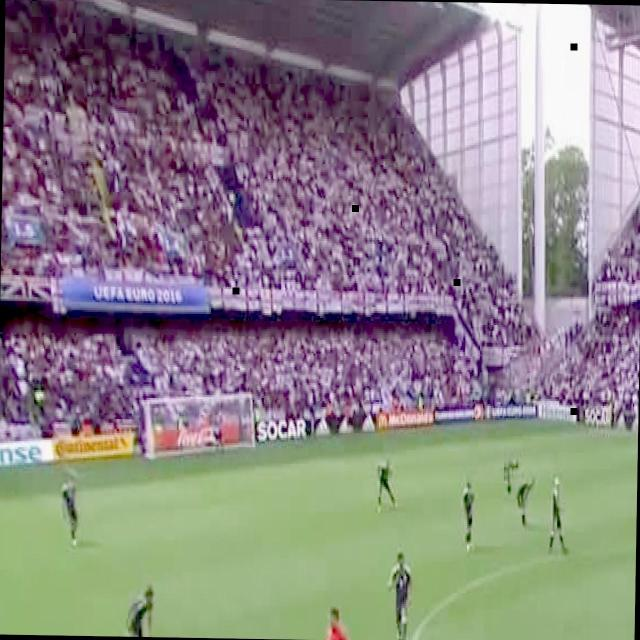player-white: (386, 550, 414, 640), (59, 467, 82, 549), (547, 476, 569, 552), (126, 585, 154, 637), (377, 458, 398, 512), (461, 482, 477, 552), (323, 606, 353, 640), (516, 476, 534, 530), (504, 455, 518, 499), (212, 410, 224, 450)
